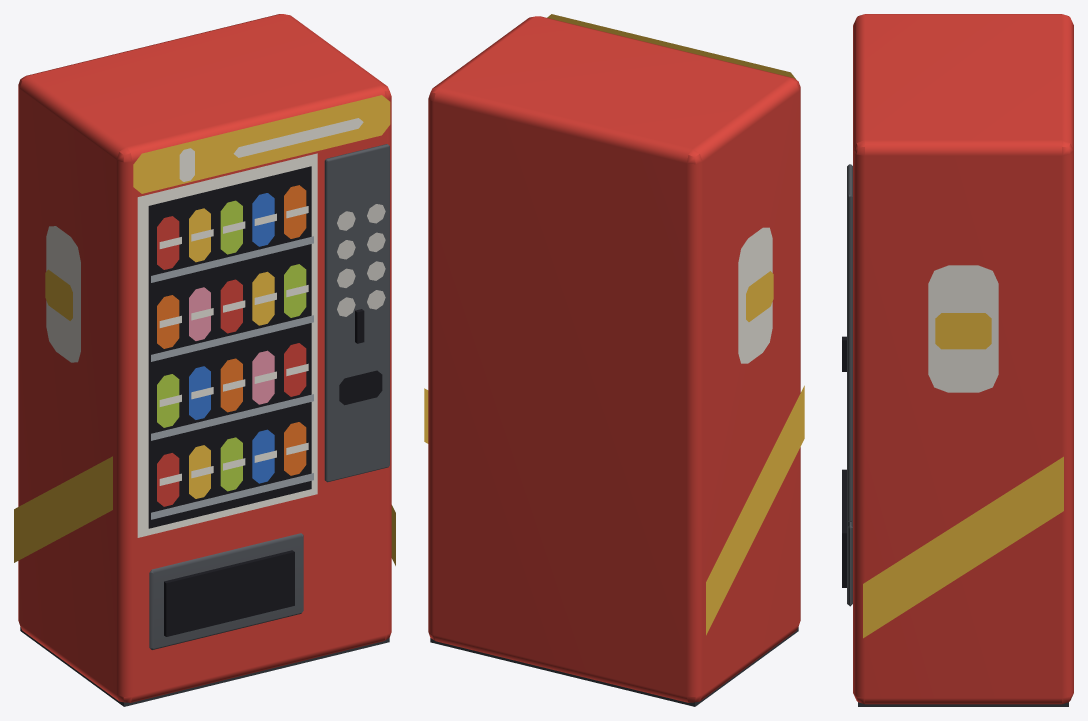
The model's file is ExpendedoraRoja.fbx.
The picture shows the model from 3 angles, left to right: view 1: azimuth 30°, elevation 25°; view 2: azimuth 150°, elevation 25°; view 3: azimuth 270°, elevation 25°; orthographic projection.
Parts seen in each view (by area): view 1: ExpendedoraRoja; view 2: ExpendedoraRoja; view 3: ExpendedoraRoja.
Boxes of the visible parts, x1,y1,x2,y2 form: ExpendedoraRoja: (14, 14, 395, 706); ExpendedoraRoja: (424, 14, 804, 706); ExpendedoraRoja: (842, 14, 1073, 706).
Bounding box in the file's own units: 3.4 × 6.2 × 2.4.
Materials: 1 (1 with a texture image).
